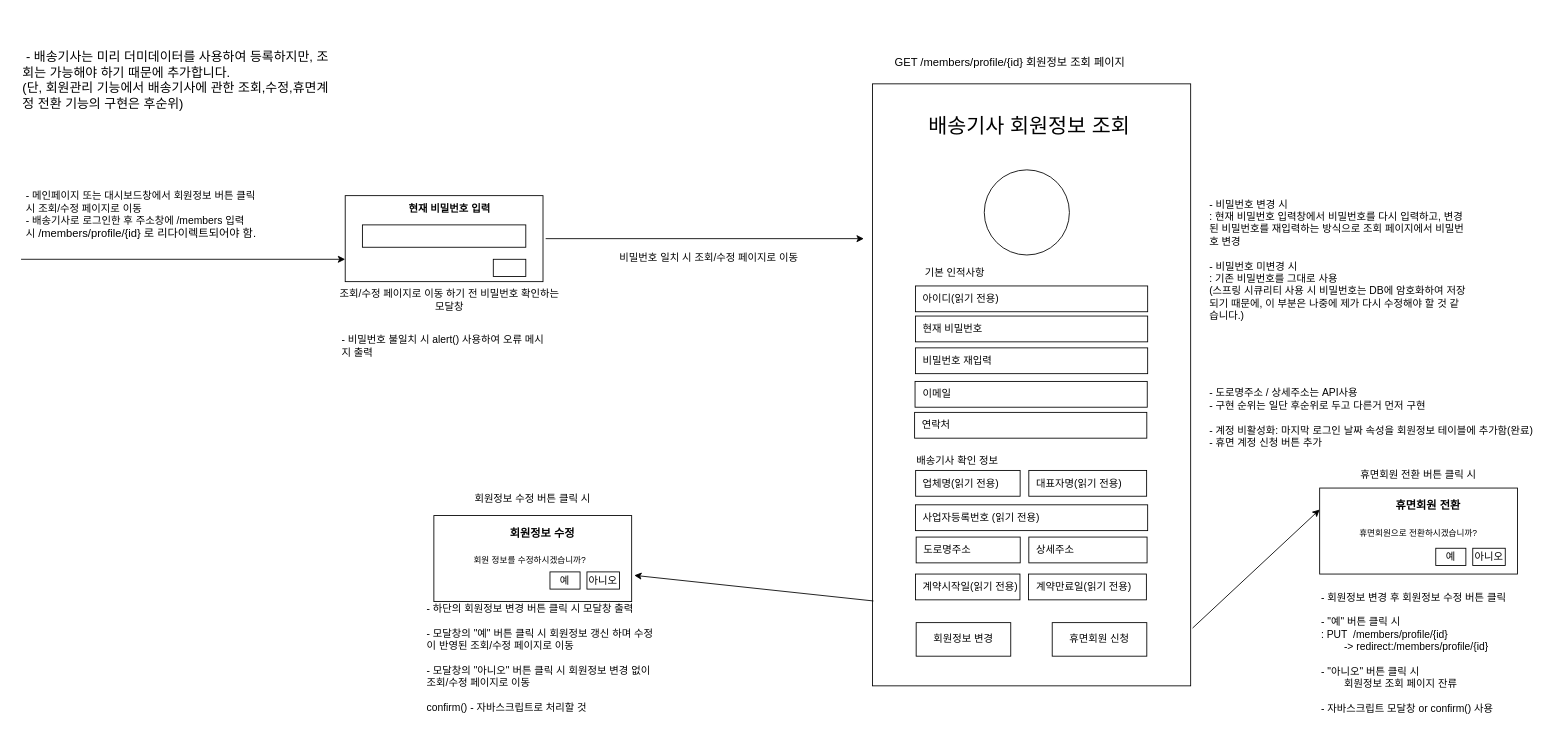
The diagram is 1558 pixels wide and 734 high, and some of its shapes have lost their labels. Each missing label, with the centre of its shape:
"비밀번호 입력창" goes at point (444, 235).
"프로필사진 (변경가능)" goes at point (1026, 212).
"확인" goes at point (509, 267).
